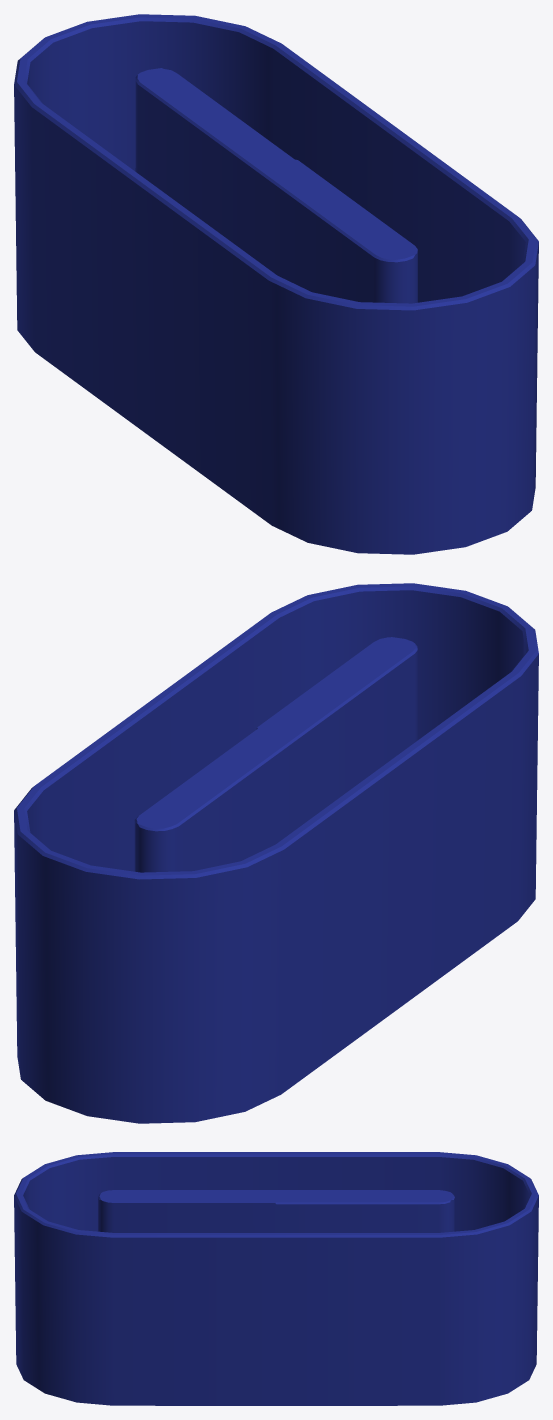
File: POOL2.fbx
The picture shows the model from 3 angles, top to bottom: view 1: azimuth 30°, elevation 25°; view 2: azimuth 150°, elevation 25°; view 3: azimuth 270°, elevation 25°; orthographic projection. The views are drawn at different scales.
Parts seen in each view (by area): view 1: bac; view 2: bac; view 3: bac.
Part boxes in pixels (x1,y1,x2,y2): bac: (14, 14, 538, 554); bac: (14, 583, 538, 1123); bac: (14, 1152, 538, 1405).
Size of the model in its own units: 220 by 210 by 576.
